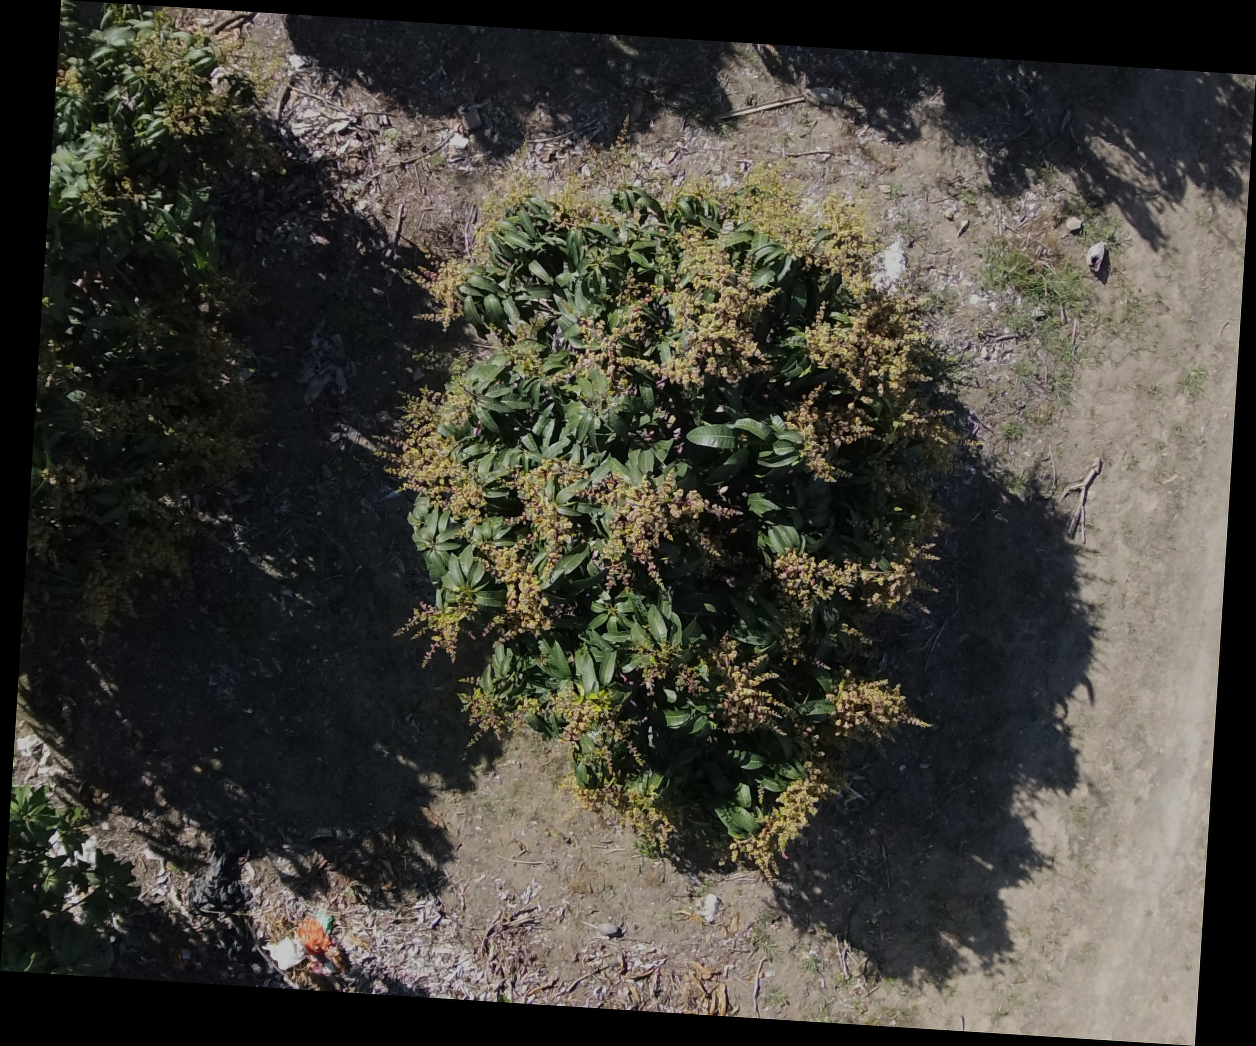flowers: (456, 674, 681, 846), (573, 224, 776, 399), (513, 466, 741, 585), (126, 9, 263, 140), (727, 187, 880, 294), (82, 497, 203, 631), (378, 376, 487, 517), (715, 760, 834, 878), (805, 296, 929, 394), (163, 356, 260, 481), (564, 772, 677, 852), (784, 385, 875, 483), (771, 553, 914, 614), (479, 543, 554, 641), (708, 636, 782, 734), (825, 672, 929, 739), (395, 589, 476, 666), (403, 250, 477, 330), (29, 459, 86, 558), (466, 321, 547, 376), (904, 407, 961, 471), (126, 300, 176, 351), (630, 642, 679, 694), (553, 195, 617, 232), (38, 341, 74, 391), (873, 462, 915, 497), (56, 57, 84, 96), (675, 662, 709, 694), (780, 626, 804, 665), (813, 658, 830, 670)
